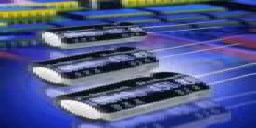Electrolytic-Capacitor: (57, 71, 247, 120), (31, 46, 180, 89), (37, 23, 167, 47)
